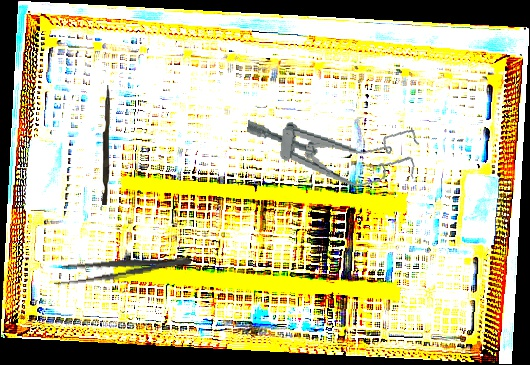Dressing Forceps: (52, 248, 192, 289)
Pusher: (102, 85, 110, 205)
Speculum: (241, 107, 421, 194)
